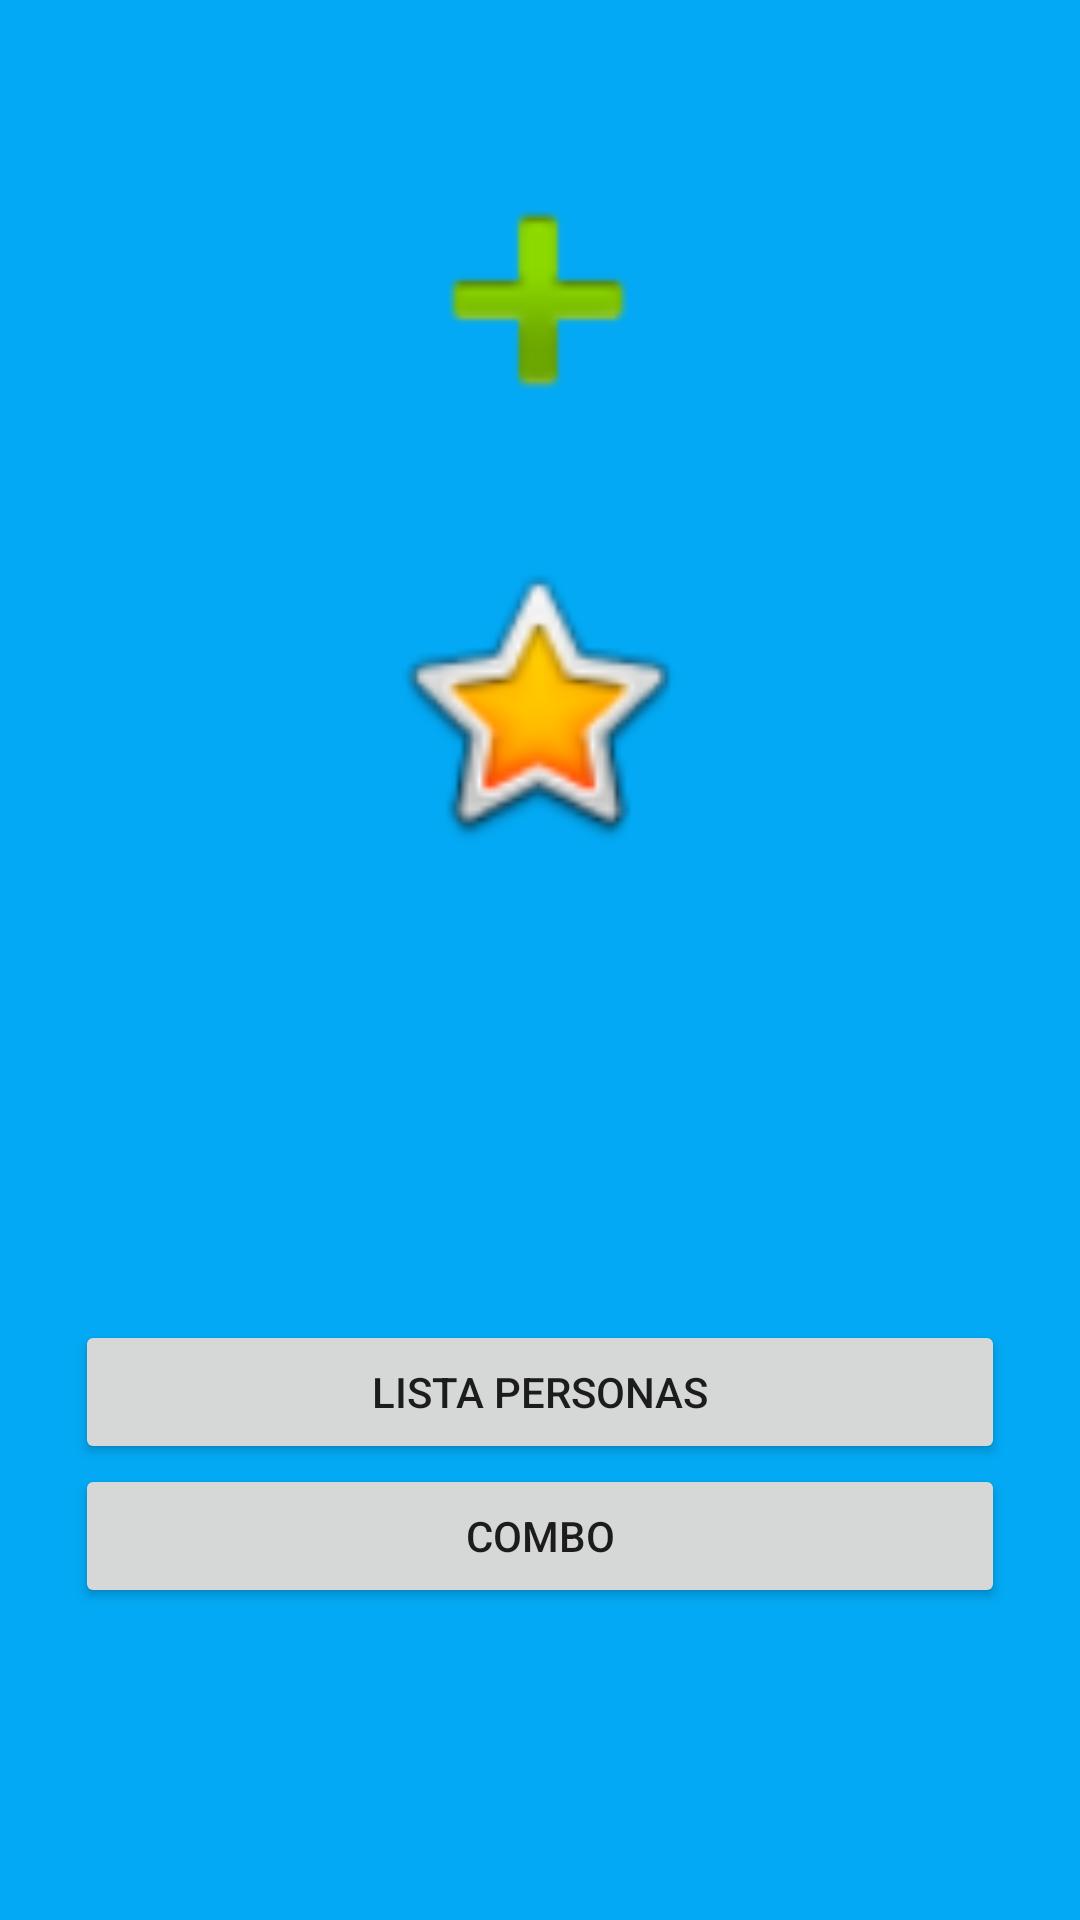

Where to tap for icons on this 1080×1920 app screen, as [x,y]:
add: [538,299]
star on: [538,706]
